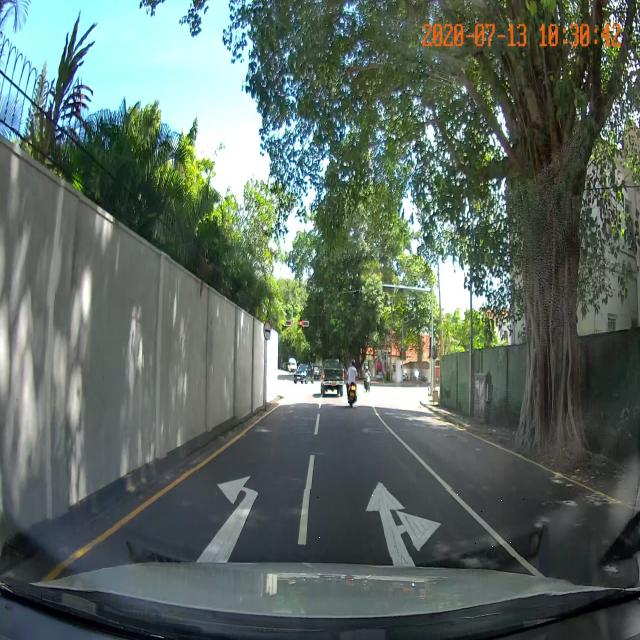forward_right: (291, 496, 527, 557), (289, 489, 521, 546)
